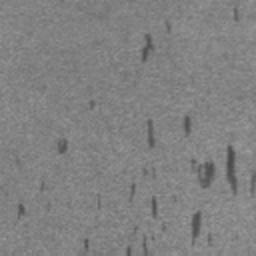Red iron sheet: (83, 115, 238, 256), (141, 20, 172, 64), (56, 138, 68, 155), (232, 6, 239, 22), (17, 204, 26, 216)
